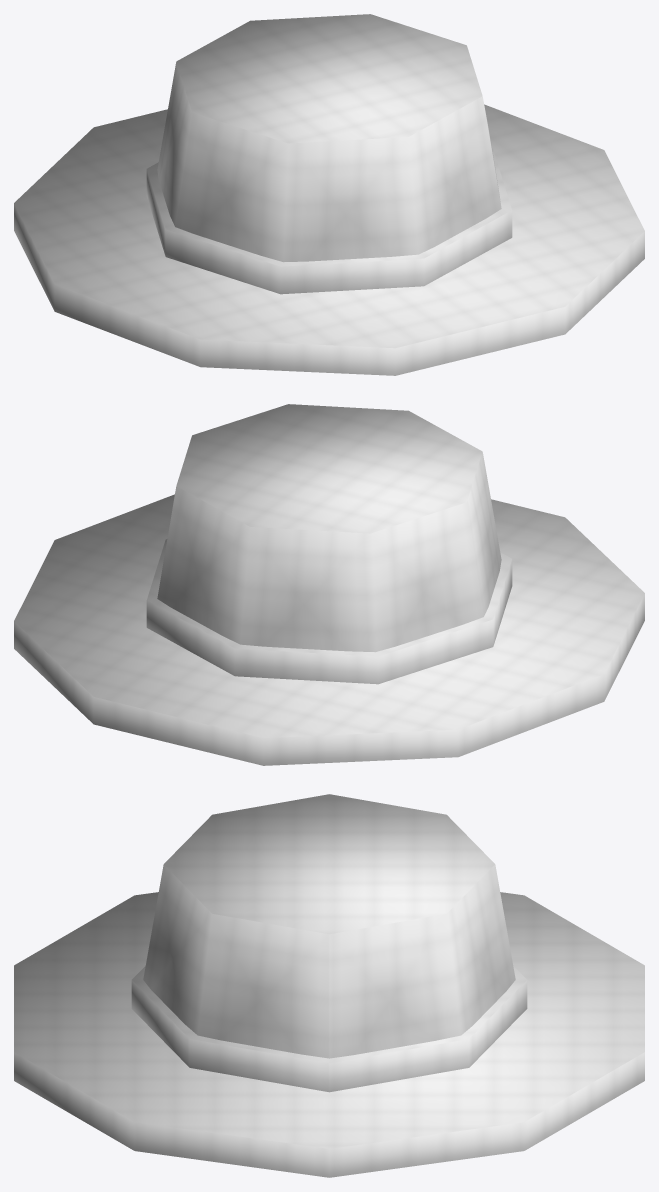
The model's file is hat.obj.
3 renders of one model, top to bottom at view 1: azimuth 30°, elevation 25°; view 2: azimuth 150°, elevation 25°; view 3: azimuth 270°, elevation 25°, orthographic. The views are drawn at different scales.
Visible parts, largest first — view 1: hat_part_01, hat_part_02, hat_part_03; view 2: hat_part_01, hat_part_02, hat_part_03; view 3: hat_part_01, hat_part_02, hat_part_03.
Part boxes in pixels (bbox=[...]): hat_part_01: bbox=[14, 104, 644, 375]; hat_part_02: bbox=[157, 14, 501, 262]; hat_part_03: bbox=[146, 149, 512, 294]; hat_part_01: bbox=[14, 494, 644, 765]; hat_part_02: bbox=[157, 404, 501, 652]; hat_part_03: bbox=[146, 539, 512, 684]; hat_part_01: bbox=[14, 892, 644, 1177]; hat_part_02: bbox=[143, 794, 515, 1058]; hat_part_03: bbox=[131, 966, 527, 1092].
Bounding box in the file's own units: 0.52 × 0.15 × 0.4946.
